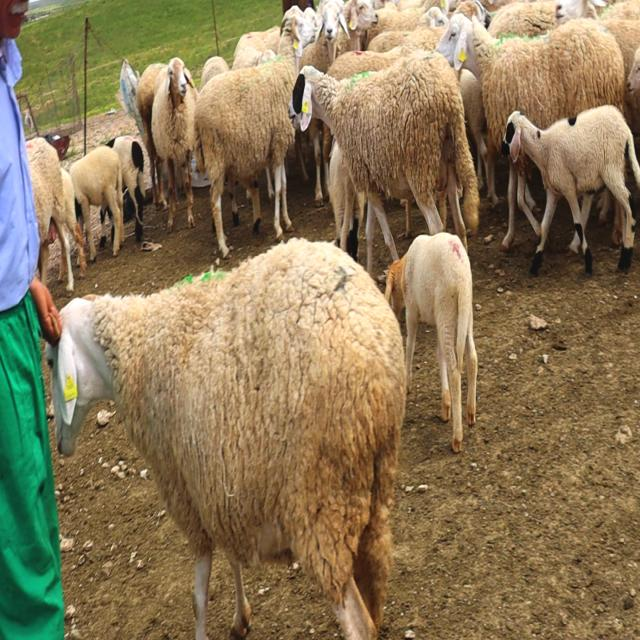Score_5: (46, 239, 406, 639)
